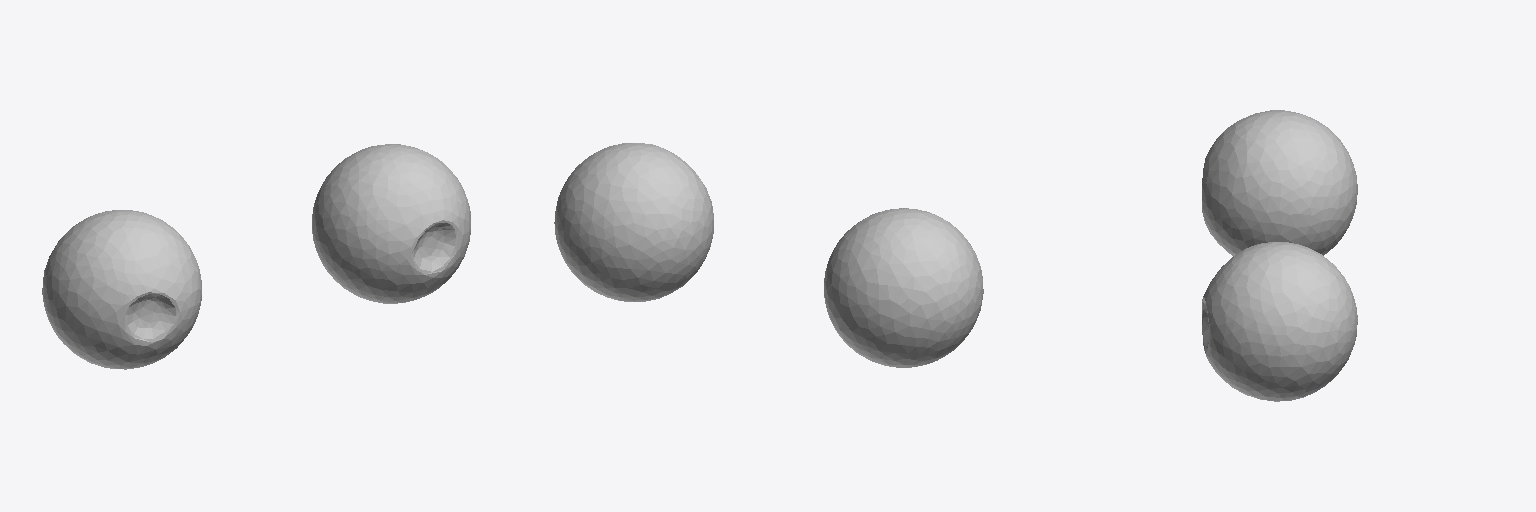
Rendered from Thug01_eyes.OBJ.
The picture shows the model from 3 angles: view 1: azimuth 30°, elevation 25°; view 2: azimuth 150°, elevation 25°; view 3: azimuth 270°, elevation 25°; orthographic projection.
Visible parts, largest first — view 1: Group19044; view 2: Group19044; view 3: Group19044.
Boxes of the visible parts, x1=… form: Group19044: x1=42, y1=144, x2=470, y2=369; Group19044: x1=554, y1=143, x2=983, y2=367; Group19044: x1=1202, y1=110, x2=1357, y2=401.
Bounding box in the file's own units: 0.953 × 0.3234 × 0.3158.